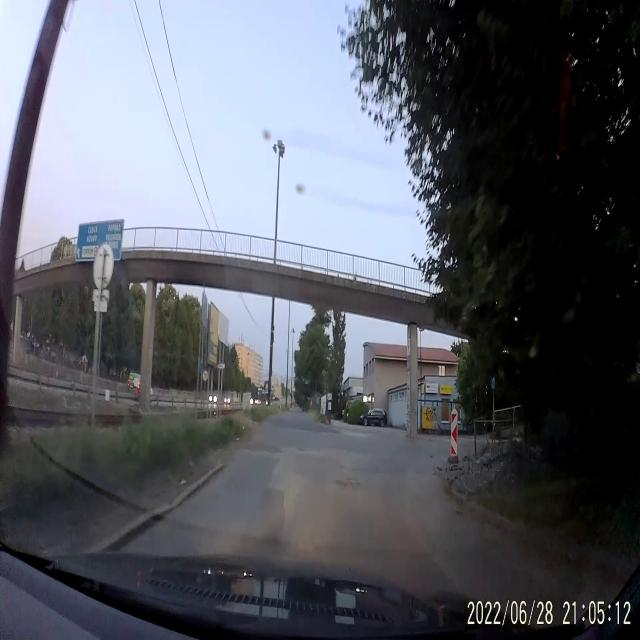Pothole: (332, 470, 363, 496)
